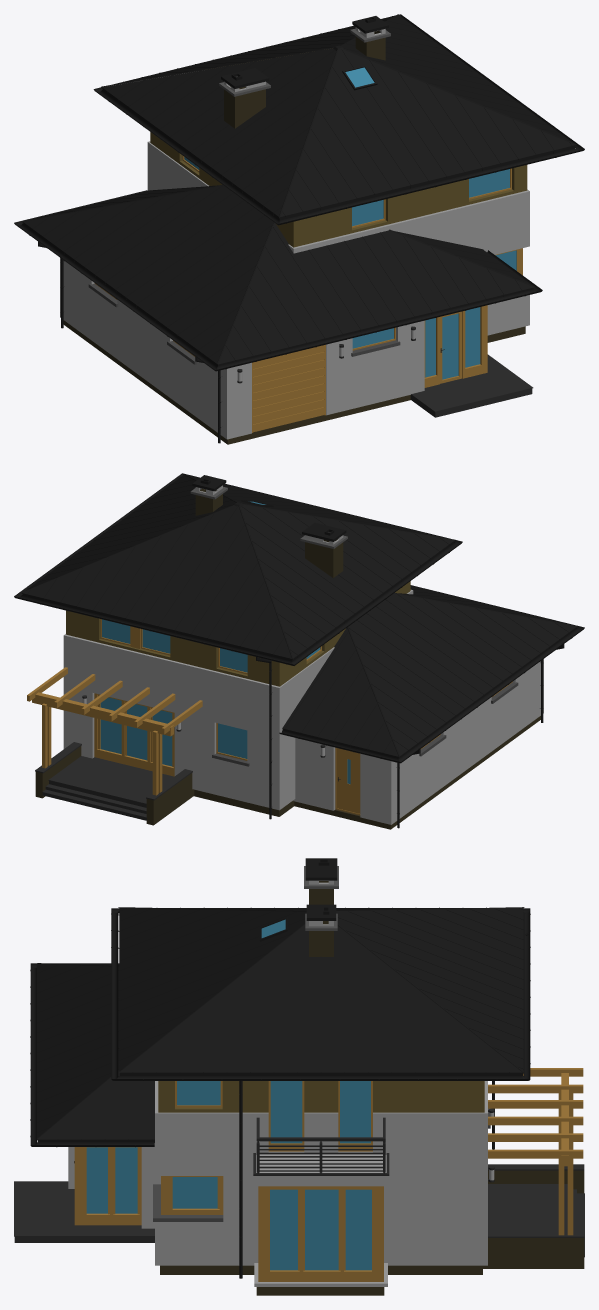
File: Bambo_House.fbx
3 renders of one model, top to bottom at view 1: azimuth 30°, elevation 25°; view 2: azimuth 150°, elevation 25°; view 3: azimuth 270°, elevation 25°, orthographic. The views are drawn at different scales.
Visible parts, largest first — view 1: roof, body_house, gutters, windows, garage, chimneys, fundametnts, stairs, ridge, door, parapet, window_roof; view 2: roof, body_house, gutters, windows, stairs, boards, door, chimneys, wall_barrels, fundametnts, ridge, parapet; view 3: roof, body_house, windows, stairs, gutters, boards, wall_barrels, fundametnts, barrels, chimneys, ridge, parapet.
Part boxes in pixels (bbox=[...]): roof: bbox=[22, 15, 576, 366]; body_house: bbox=[60, 73, 529, 439]; gutters: bbox=[14, 14, 584, 443]; windows: bbox=[94, 156, 522, 387]; garage: bbox=[252, 344, 325, 432]; chimneys: bbox=[219, 16, 390, 128]; fundametnts: bbox=[63, 320, 532, 444]; stairs: bbox=[411, 354, 533, 411]; ridge: bbox=[22, 14, 576, 364]; door: bbox=[440, 311, 461, 383]; parapet: bbox=[88, 283, 400, 364]; window_roof: bbox=[342, 65, 377, 90]; roof: bbox=[21, 474, 577, 758]; body_house: bbox=[63, 581, 543, 824]; gutters: bbox=[14, 473, 584, 828]; windows: bbox=[100, 619, 512, 815]; stairs: bbox=[42, 756, 173, 820]; boards: bbox=[27, 667, 202, 795]; door: bbox=[94, 693, 174, 776]; chimneys: bbox=[190, 475, 347, 577]; wall_barrels: bbox=[35, 742, 194, 825]; fundametnts: bbox=[194, 716, 540, 829]; ridge: bbox=[21, 473, 577, 756]; parapet: bbox=[212, 682, 518, 766]; roof: bbox=[36, 907, 523, 1144]; body_house: bbox=[68, 1081, 487, 1286]; windows: bbox=[74, 1081, 383, 1281]; stairs: bbox=[14, 1181, 584, 1257]; gutters: bbox=[30, 908, 530, 1278]; boards: bbox=[488, 1068, 583, 1235]; wall_barrels: bbox=[483, 1164, 584, 1268]; fundametnts: bbox=[14, 1236, 482, 1295]; barrels: bbox=[253, 1117, 389, 1175]; chimneys: bbox=[304, 858, 338, 956]; ridge: bbox=[36, 907, 524, 1139]; parapet: bbox=[153, 1108, 490, 1221].
Bounding box in the file's own units: 13.64 × 9 × 14.54.
